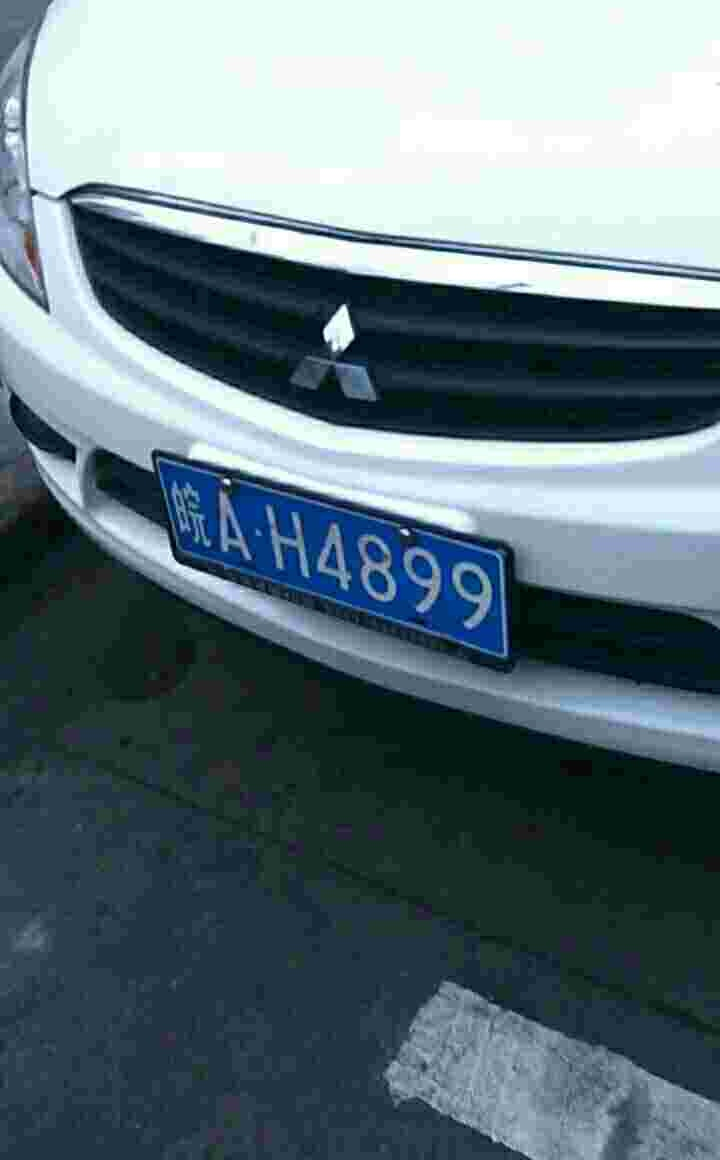license_plate: (159, 461, 513, 644)
